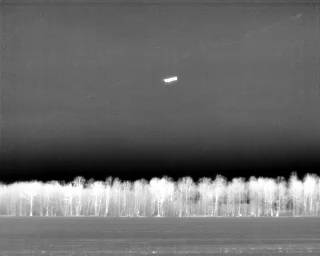DRONE: (160, 72, 182, 88)
